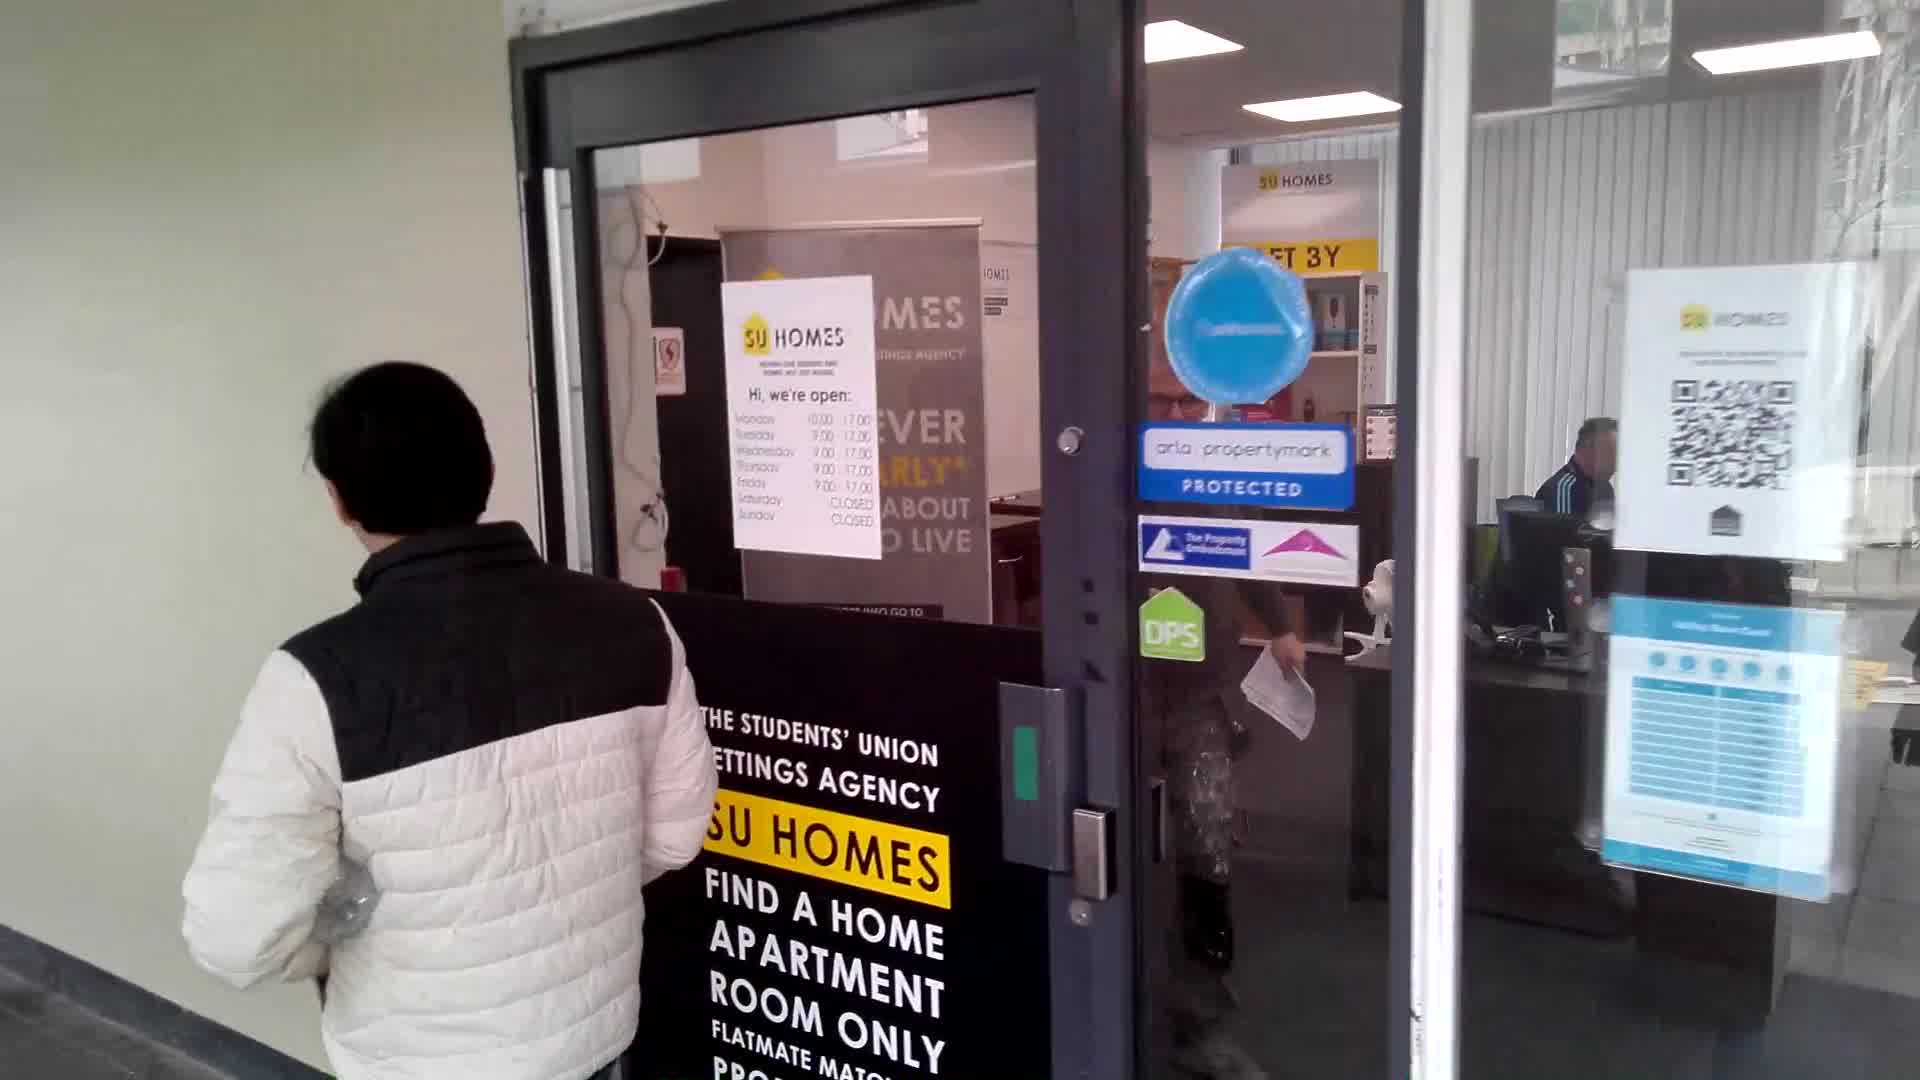Door: (516, 15, 1126, 1080)
Person: (296, 361, 686, 1080)
